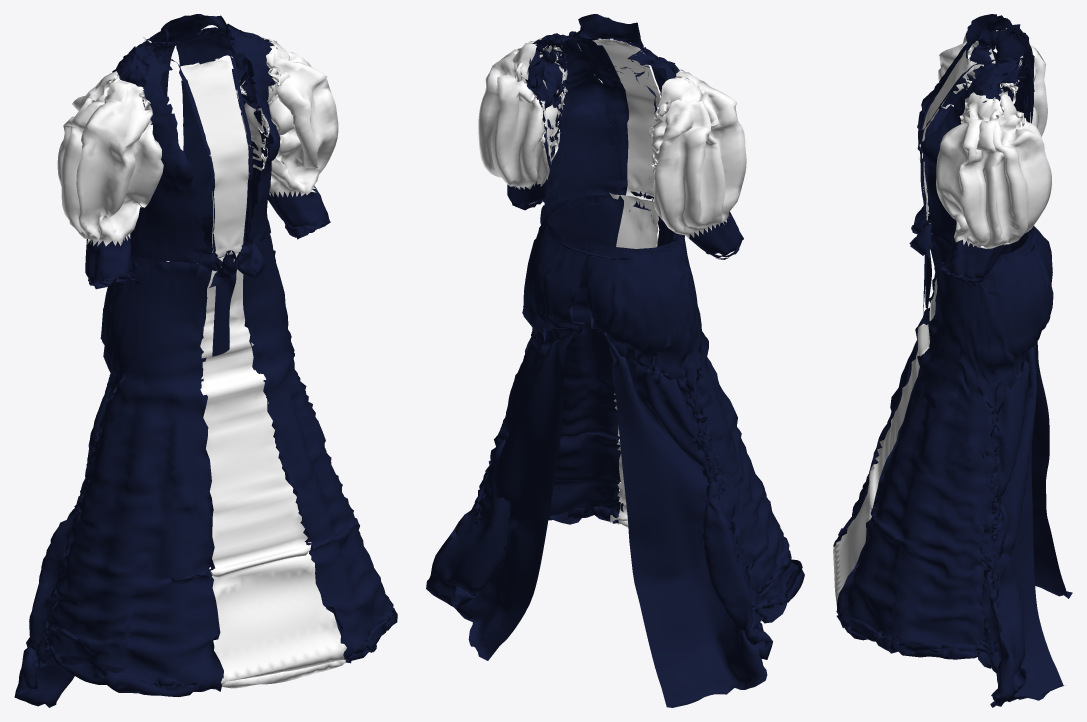
The model's file is robe-v2-simulated.glb.
The picture shows the model from 3 angles, left to right: view 1: azimuth 30°, elevation 25°; view 2: azimuth 150°, elevation 25°; view 3: azimuth 270°, elevation 25°; orthographic projection. The views are drawn at different scales.
Parts seen in each view (by area): view 1: garment; view 2: garment; view 3: garment.
Part boxes in pixels (left/top/right/bottom): garment: left=14, top=14, right=397, bottom=707; garment: left=426, top=14, right=804, bottom=707; garment: left=833, top=14, right=1072, bottom=707.
Size of the model in its own units: 0.8263 by 1.46 by 0.5126.
